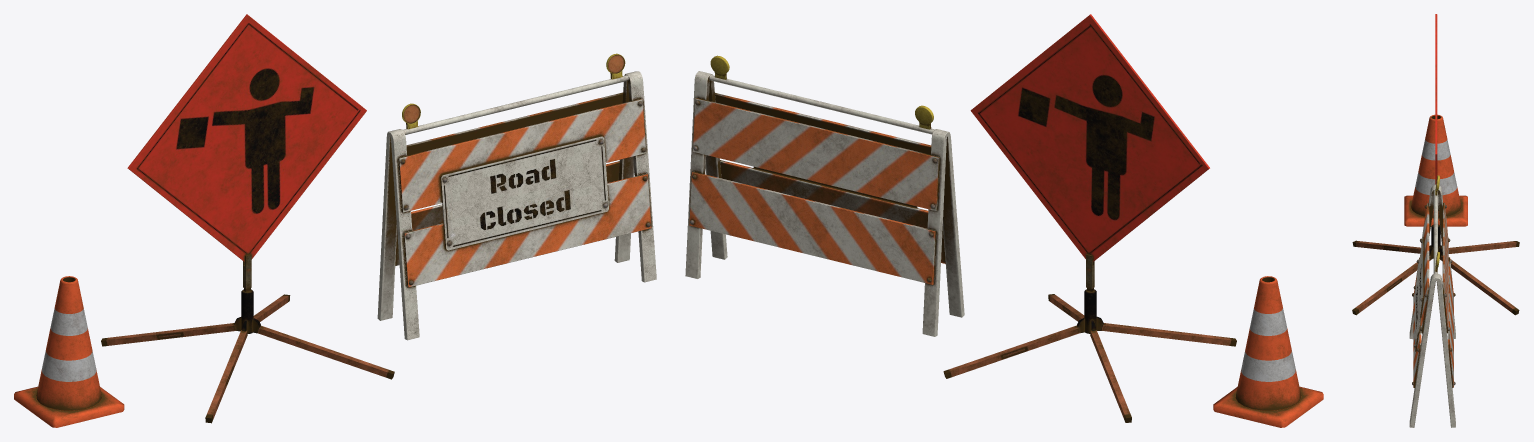
The model's file is construction_barricades.glb.
The picture shows the model from 3 angles, left to right: view 1: azimuth 30°, elevation 25°; view 2: azimuth 150°, elevation 25°; view 3: azimuth 270°, elevation 25°; orthographic projection. The views are drawn at different scales.
Visible parts, largest first — view 1: polySurface35 (×3), pCube17 (×3), pCylinder2 (×3); view 2: polySurface35 (×3), pCube17 (×3), pCylinder2 (×3); view 3: polySurface35 (×4), pCylinder2 (×3), pCube17 (×3).
Part boxes in pixels (x1,y1,x2,y2): polySurface35 (×3): [377, 71, 656, 340]; pCube17 (×3): [101, 14, 394, 423]; pCylinder2 (×3): [14, 276, 124, 427]; polySurface35 (×3): [685, 55, 964, 336]; pCube17 (×3): [943, 14, 1236, 422]; pCylinder2 (×3): [1213, 276, 1323, 427]; polySurface35 (×4): [1409, 184, 1455, 427]; pCylinder2 (×3): [1404, 114, 1467, 226]; pCube17 (×3): [1352, 14, 1519, 315].
Bounding box in the file's own units: 2 × 1.1 × 0.6253.
14 materials, 14 textured.
